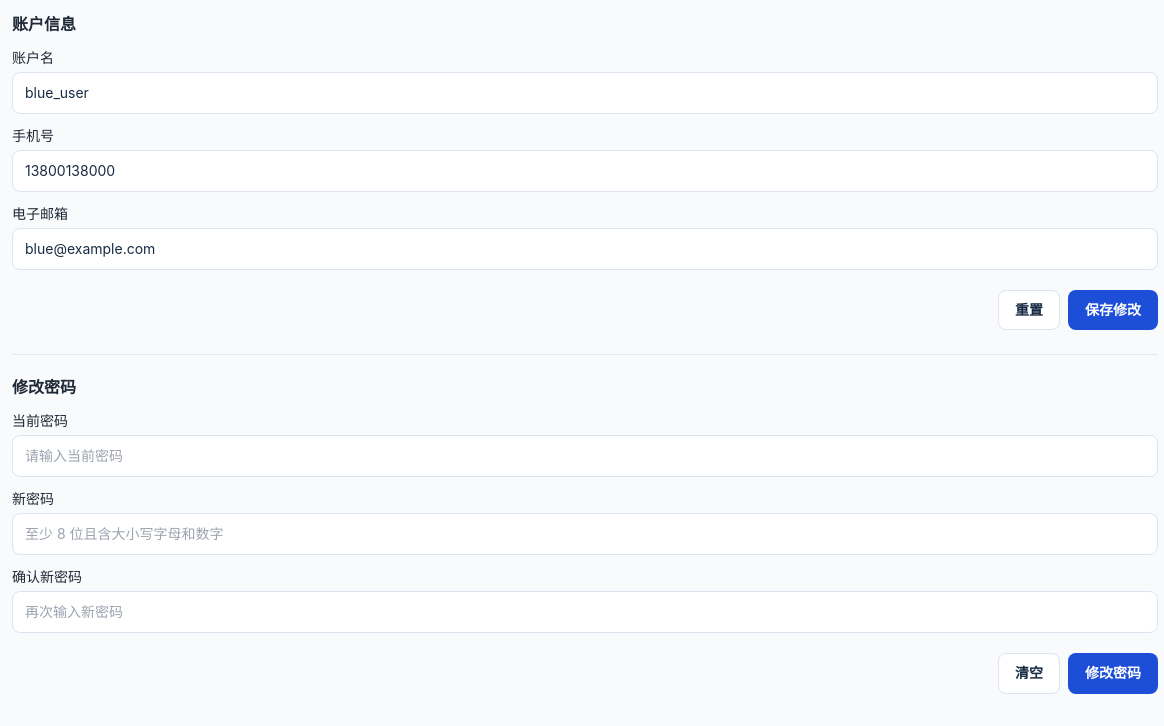
Test case: SettingsAccount › blocks empty phone and email values before the backend-required update
This screenshot has width=1164, height=726.
Clear the field with id "settings-account-phone": (585, 171) [12,150,1158,192]
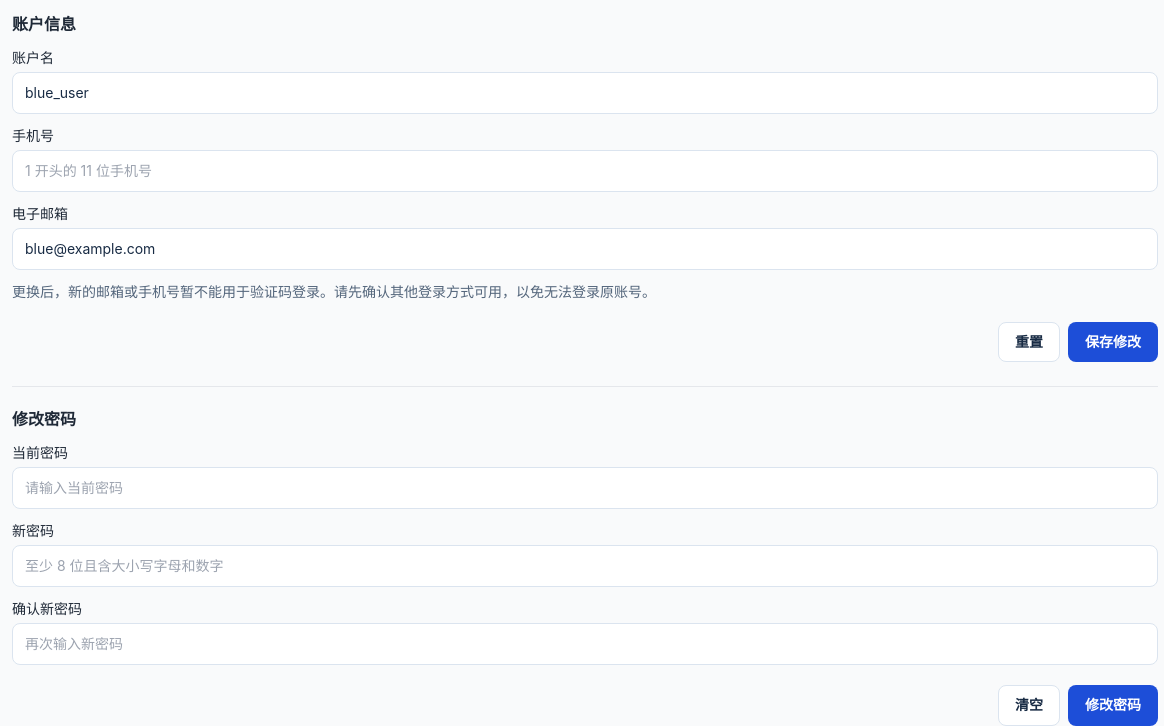
Clear the field with id "settings-account-email": (585, 249) [12,228,1158,270]
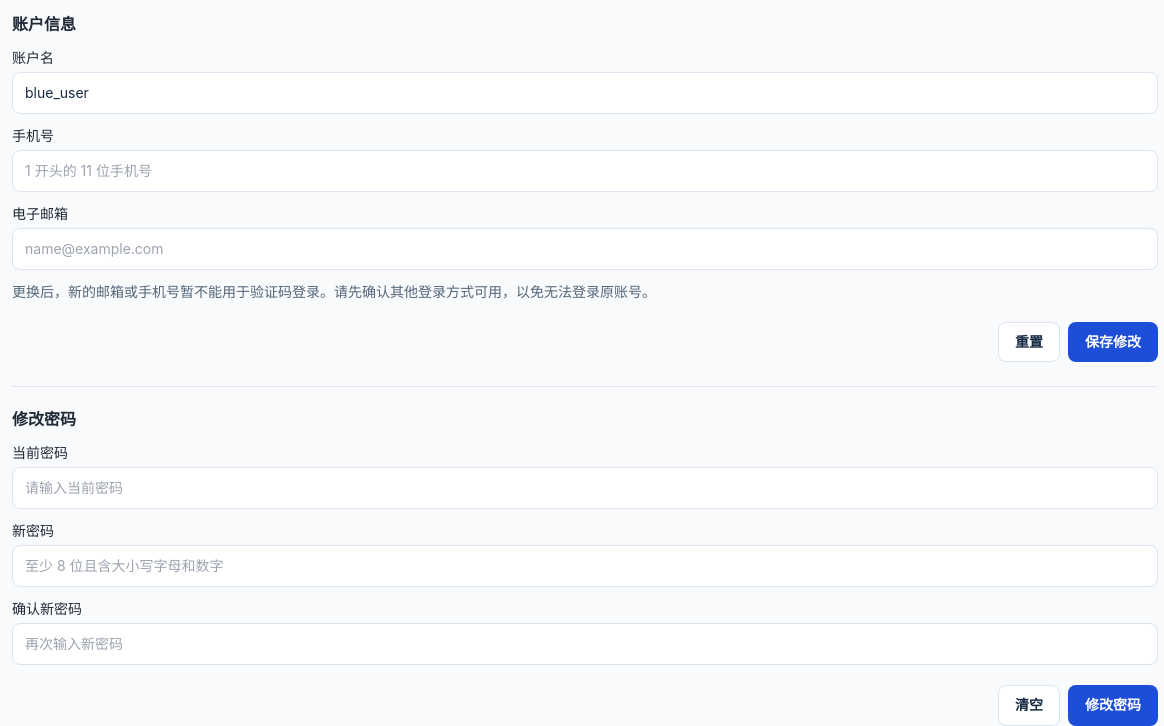
Click the button "保存修改": (1113, 342) [1068,322,1158,362]
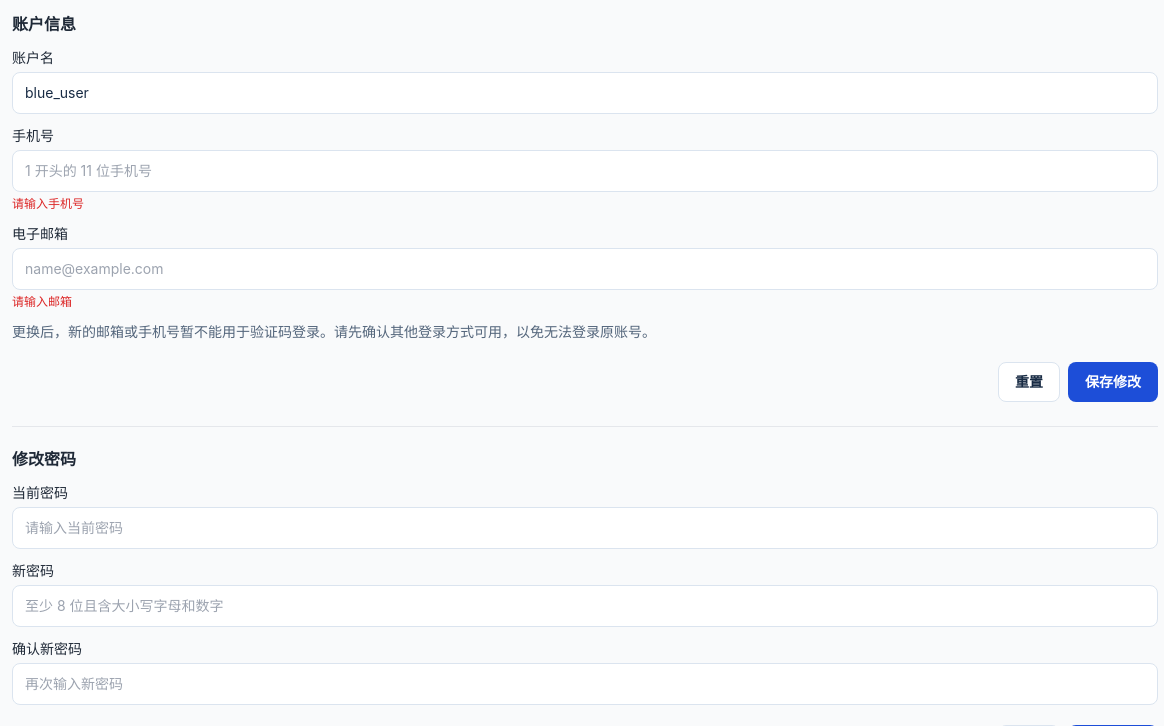
Check: the message with id "settings-account-phone-error" reads "请输入手机号", box [12,196,84,211]
Check: the message with id "settings-account-email-error" reads "请输入邮箱", box [12,294,72,309]
